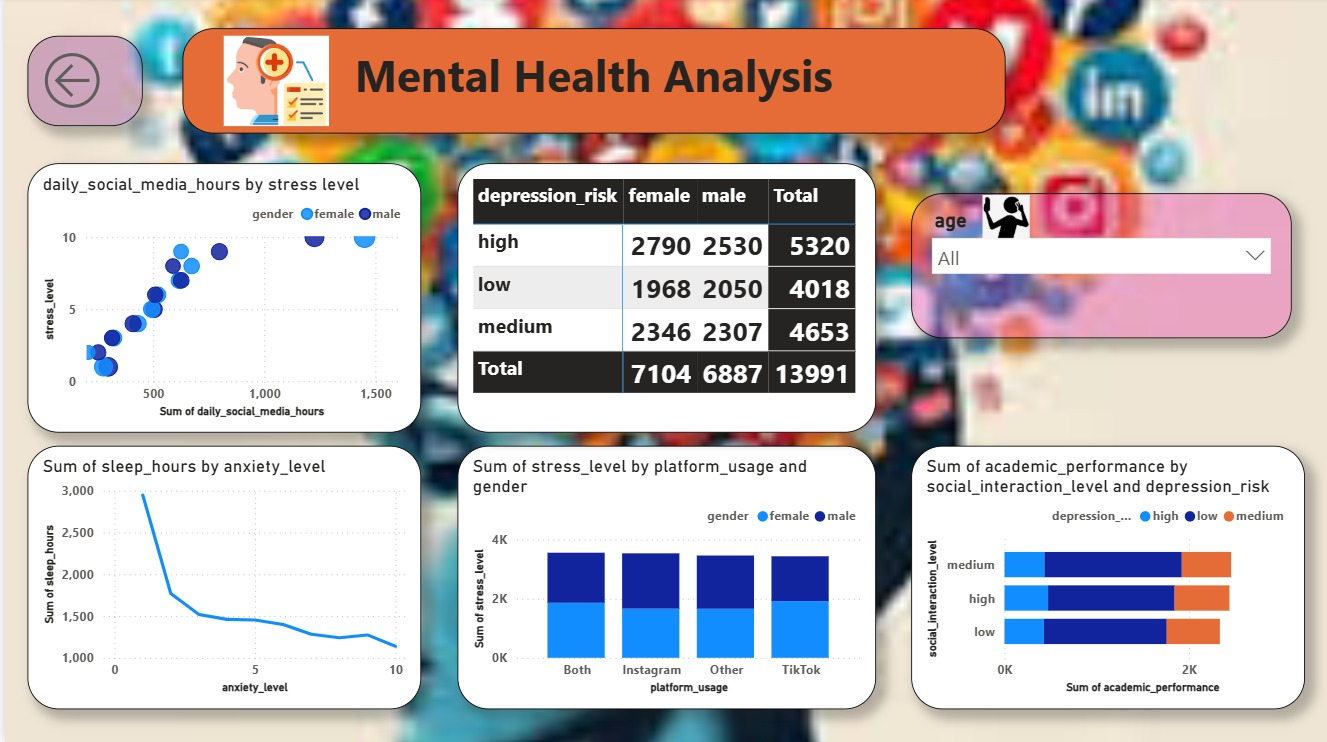

The dashboard page shown, as its layout file describes it:
{"tool":"powerbi","page":{"name":"mental_health_analysis","canvas":[1280,720],"ordinal":1},"visuals":[{"type":"scatterChart","title":"daily_social_media_hours by stress level","fields":{"X":["Sum(Teen_Mental_Health_Dataset.daily_social_media_hours)"],"Y":["Teen_Mental_Health_Dataset.stress_level"],"Series":["Teen_Mental_Health_Dataset.gender"],"Size":["Teen_Mental_Health_Dataset.Total Teans"]},"box":[21.4,160,380,260],"z":0},{"type":"lineChart","fields":{"Category":["Teen_Mental_Health_Dataset.anxiety_level"],"Y":["Sum(Teen_Mental_Health_Dataset.sleep_hours)"]},"box":[21.4,432.9,380,254.3],"z":1000},{"type":"columnChart","fields":{"Category":["Teen_Mental_Health_Dataset.platform_usage"],"Y":["Sum(Teen_Mental_Health_Dataset.stress_level)"],"Series":["Teen_Mental_Health_Dataset.gender"]},"box":[437.1,432.9,404.3,254.3],"z":2000},{"type":"pivotTable","fields":{"Rows":["Teen_Mental_Health_Dataset.depression_risk"],"Columns":["Teen_Mental_Health_Dataset.gender"],"Values":["Sum(Teen_Mental_Health_Dataset.stress_level)"]},"box":[437.1,160,404.3,260],"z":3000},{"type":"barChart","fields":{"Category":["Teen_Mental_Health_Dataset.social_interaction_level"],"Y":["Sum(Teen_Mental_Health_Dataset.academic_performance)"],"Series":["Teen_Mental_Health_Dataset.depression_risk"]},"box":[874.3,432.9,380,254.3],"z":4000},{"type":"slicer","fields":{"Values":["Teen_Mental_Health_Dataset.age"]},"box":[874.3,190,367.1,140],"z":5000},{"type":"image","box":[942.9,180,45.7,65.7],"z":5001},{"type":"textbox","box":[171.4,30,794.3,101.4],"z":5002},{"type":"image","box":[211.4,37.1,101.4,87.1],"z":5003},{"type":"actionButton","box":[21.4,37.1,111.4,87.1],"z":5004}]}

Visuals, with their boxes in screenshot pixels (x1, y1, x2, y2), scaled from the page's 1280x720 canvas onto the 1327x742 screenshot:
"daily_social_media_hours by stress level" scatterChart: 22:165:416:433
lineChart - Teen_Mental_Health_Dataset.anxiety_level x Sum(Teen_Mental_Health_Dataset.sleep_hours): 22:446:416:708
columnChart - Teen_Mental_Health_Dataset.platform_usage x Sum(Teen_Mental_Health_Dataset.stress_level): 453:446:872:708
pivotTable - Teen_Mental_Health_Dataset.depression_risk x Teen_Mental_Health_Dataset.gender: 453:165:872:433
barChart - Teen_Mental_Health_Dataset.social_interaction_level x Sum(Teen_Mental_Health_Dataset.academic_performance): 906:446:1300:708
slicer - Teen_Mental_Health_Dataset.age: 906:196:1287:340
image: 978:185:1025:253
textbox: 178:31:1001:135
image: 219:38:324:128
actionButton: 22:38:138:128
